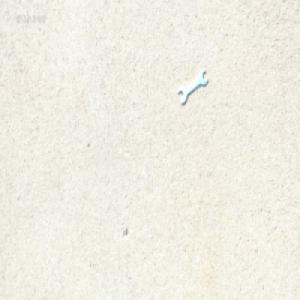Wrench: (178, 70, 207, 105)
